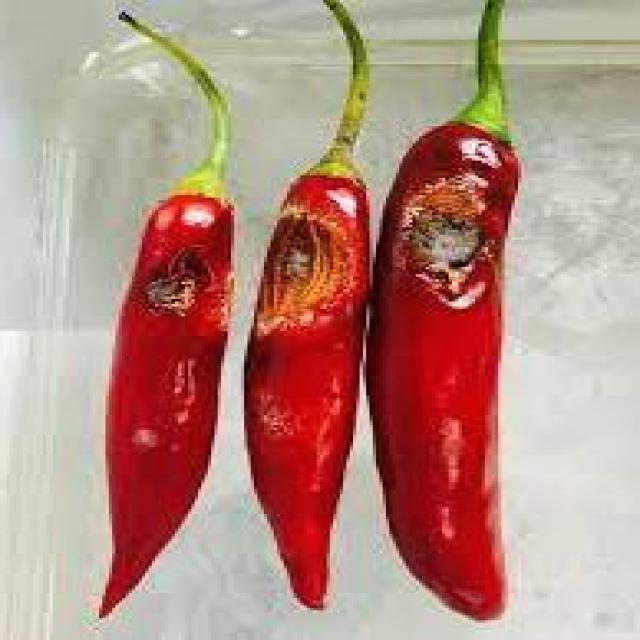Moko: (386, 176, 518, 324), (250, 204, 344, 332), (125, 227, 234, 334)
